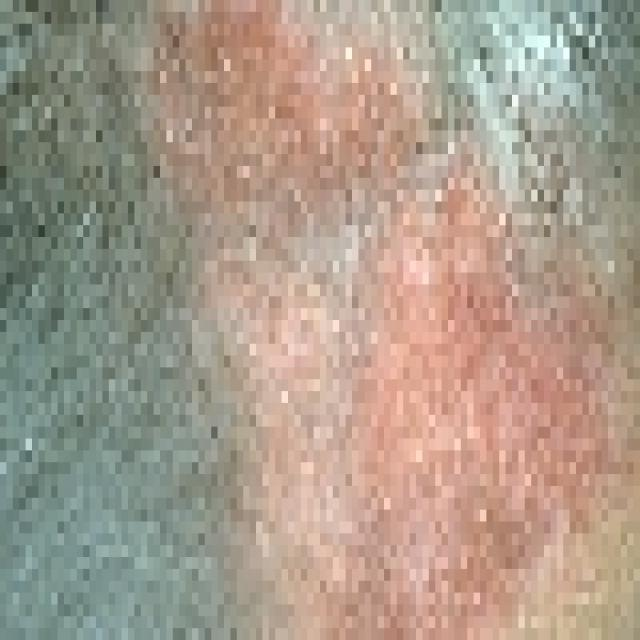lupus: (152, 0, 634, 640)
